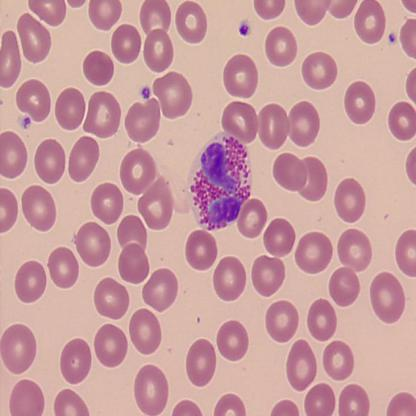Eosinophil: (189, 130, 253, 230)
